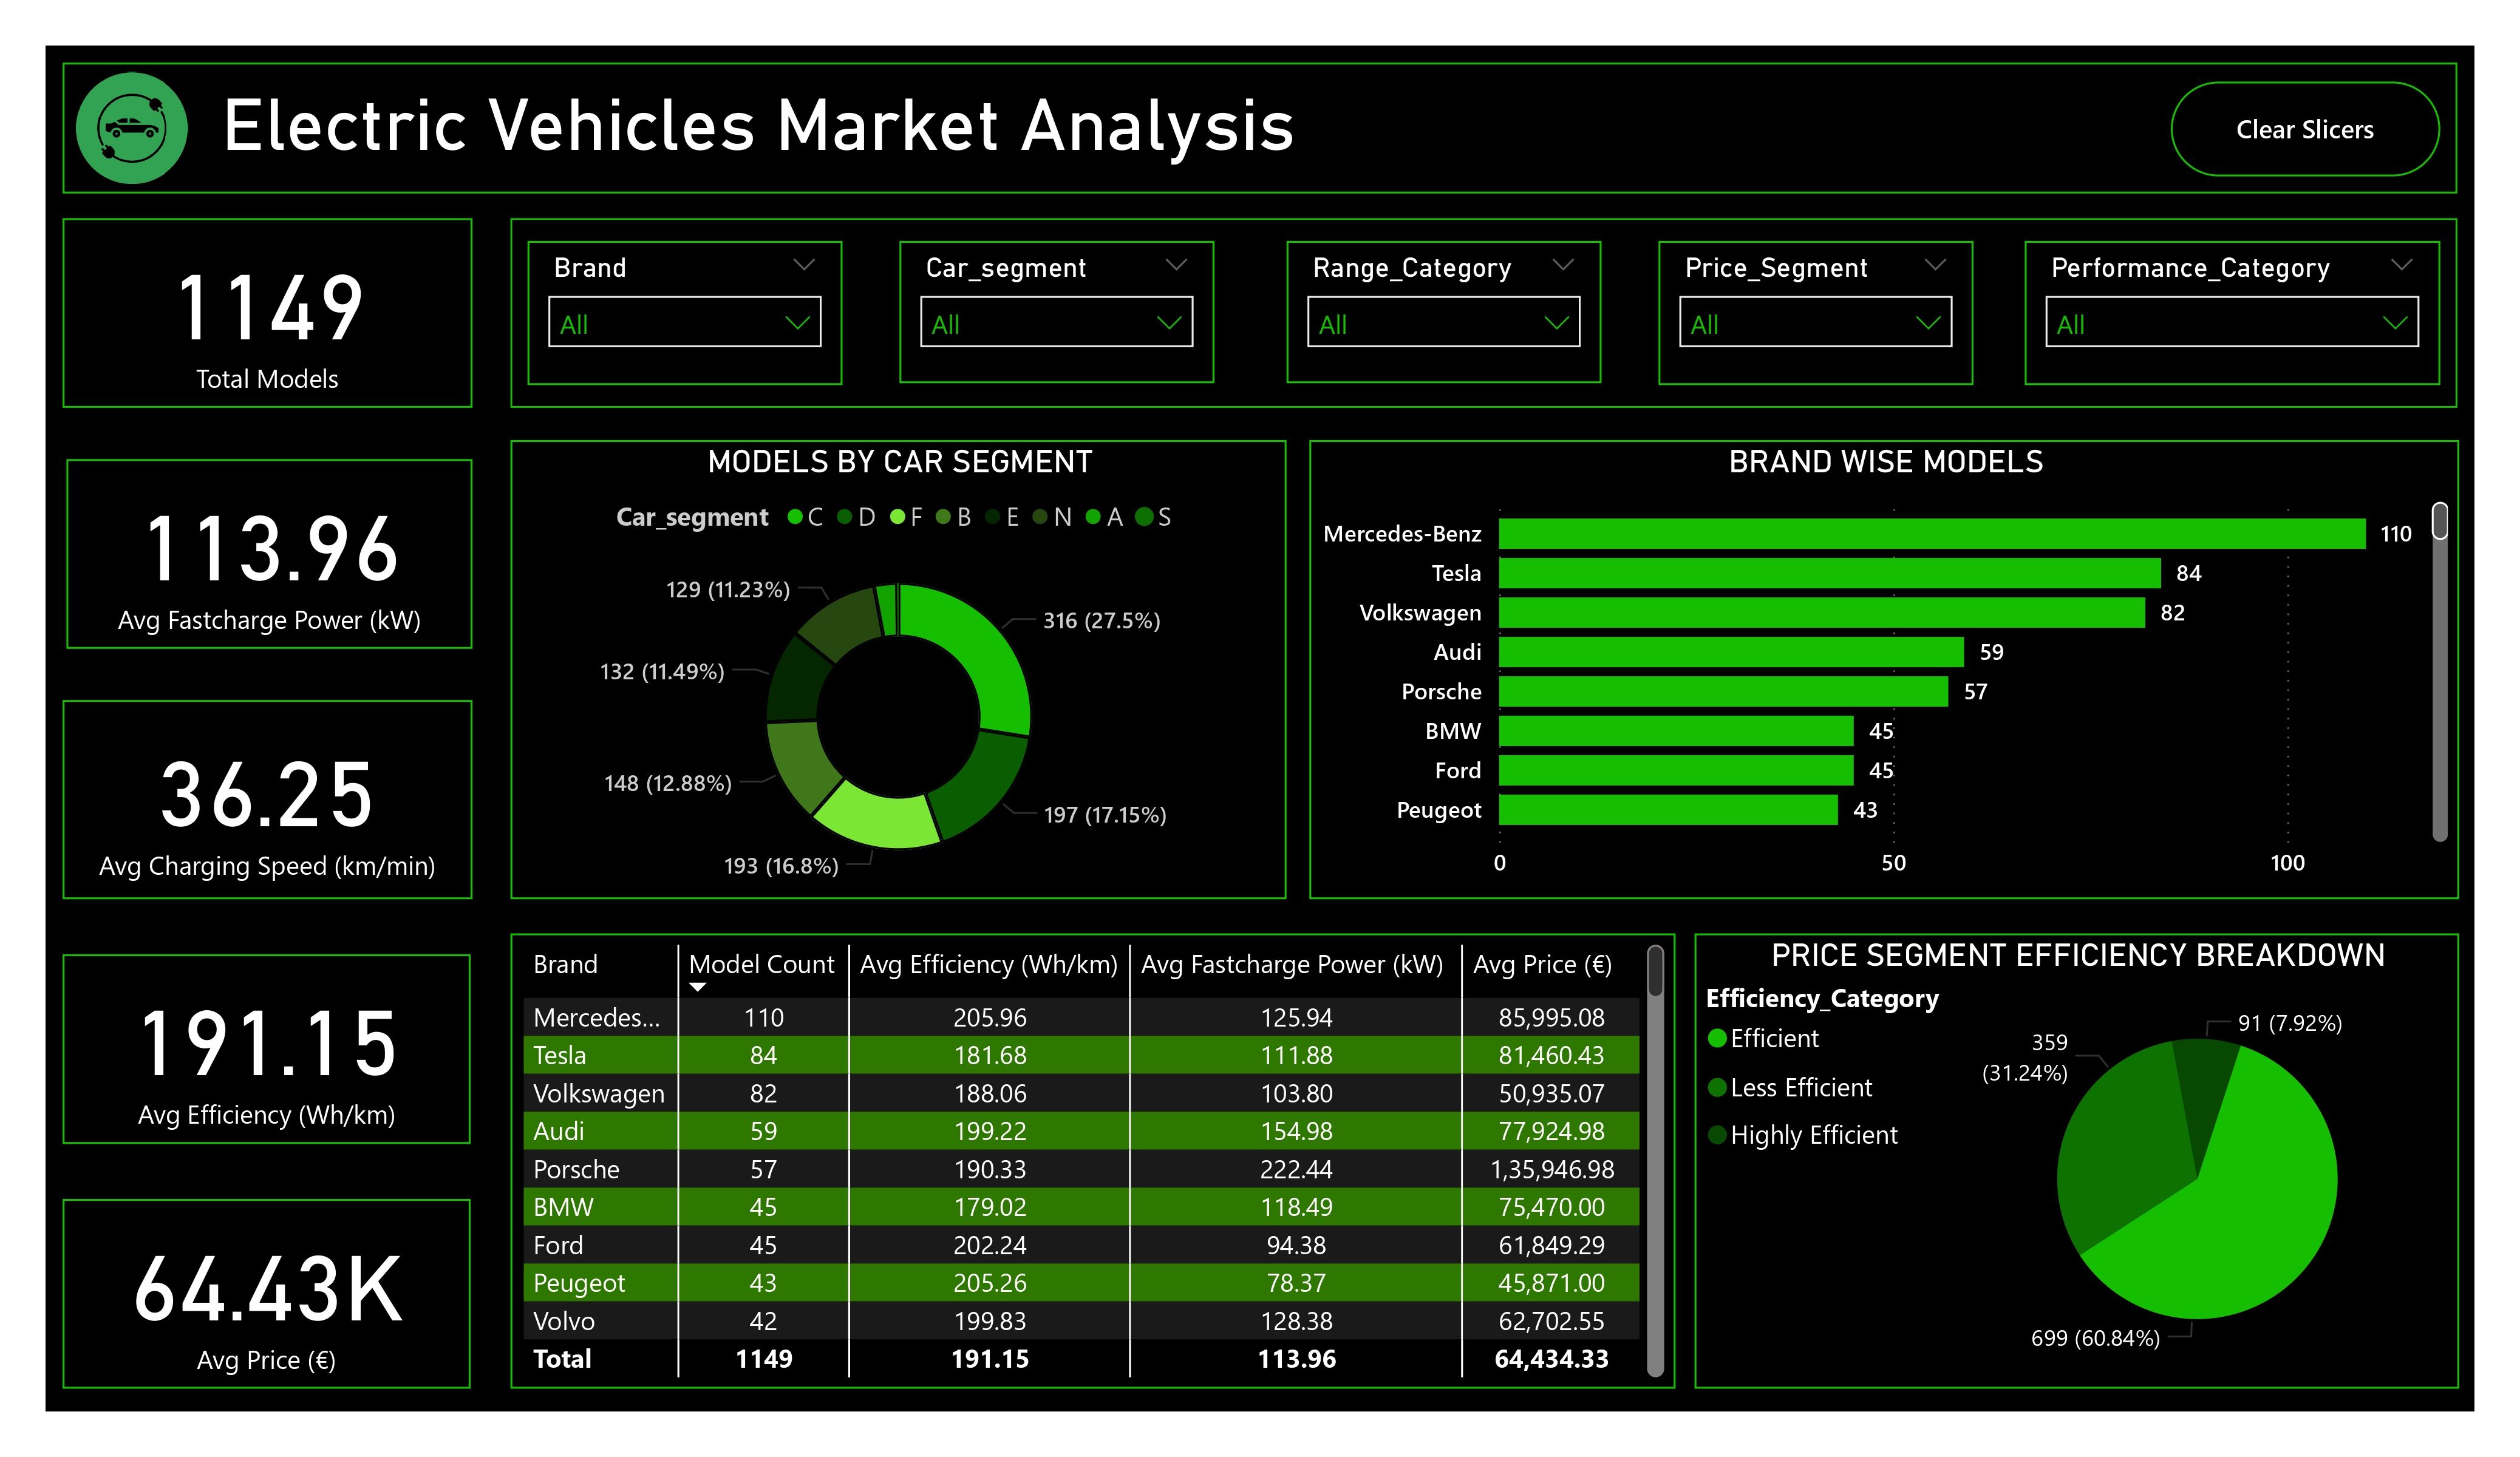

The dashboard page shown, as its layout file describes it:
{"tool":"powerbi","page":{"name":"Page 1","canvas":[1280,720],"ordinal":0},"visuals":[{"type":"textbox","box":[9.2,9.2,1261.8,68.4],"z":0},{"type":"card","fields":{"Values":["Electric_Vehicles.Total Models"]},"box":[9.2,90.8,215.8,100],"z":1000},{"type":"card","fields":{"Values":["Electric_Vehicles.Avg Fastcharge Power (kW)"]},"box":[10.5,218.4,214.5,100],"z":2000},{"type":"card","fields":{"Values":["Electric_Vehicles.Avg Charging Speed (km/min)"]},"box":[9.2,344.7,215.8,105.3],"z":3000},{"type":"card","fields":{"Values":["Electric_Vehicles.Avg Efficiency (Wh/km)"]},"box":[9.2,478.9,214.5,100],"z":4000},{"type":"card","fields":{"Values":["Electric_Vehicles.Avg Price (€)"]},"box":[9.2,607.9,214.5,100],"z":5000},{"type":"shape","box":[244.7,90.8,1026.3,100],"z":6000},{"type":"slicer","fields":{"Values":["Electric_Vehicles.Brand"]},"box":[253.9,102.6,165.8,76.3],"z":7000},{"type":"slicer","fields":{"Values":["Electric_Vehicles.Car_segment"]},"box":[450,102.7,166.2,75.7],"z":8000},{"type":"slicer","fields":{"Values":["Electric_Vehicles.Range_Category"]},"box":[654.1,102.7,166.2,75.7],"z":9000},{"type":"slicer","fields":{"Values":["Electric_Vehicles.Price_Segment"]},"box":[850,102.6,165.8,76.3],"z":10000},{"type":"slicer","fields":{"Values":["Electric_Vehicles.Performance_Category"]},"box":[1043.4,102.6,218.4,76.3],"z":11000},{"type":"donutChart","title":"MODELS BY CAR SEGMENT","fields":{"Y":["Electric_Vehicles.Total Models"],"Category":["Electric_Vehicles.Car_segment"]},"box":[244.7,207.9,409.2,242.1],"z":12000},{"type":"barChart","title":"BRAND WISE MODELS","fields":{"Category":["Electric_Vehicles.Brand"],"Y":["CountNonNull(Electric_Vehicles.Model)"]},"box":[666.2,208.1,605.4,241.9],"z":13000},{"type":"tableEx","fields":{"Values":["Electric_Vehicles.Brand","Electric_Vehicles.Model","Electric_Vehicles.Avg Efficiency (Wh/km)","Electric_Vehicles.Avg Fastcharge Power (kW)","Electric_Vehicles.Avg Price (€)"]},"box":[244.6,467.6,614.9,240.5],"z":14000},{"type":"pieChart","title":"PRICE SEGMENT EFFICIENCY BREAKDOWN","fields":{"Y":["CountNonNull(Electric_Vehicles.Price_Segment)"],"Category":["Electric_Vehicles.Efficiency_Category"]},"box":[868.9,467.6,402.7,240.5],"z":15000},{"type":"image","box":[10.8,9.5,68.9,68.9],"z":16000},{"type":"actionButton","box":[1120.3,18.9,141.9,50],"z":17000}]}

Visuals, with their boxes on the page's 1280x720 design canvas (x1, y1, x2, y2). These are canvas units, not pixel positions in the 2520x1457 screenshot, which may show the page scaled, cropped or inside an application window:
textbox: [9,9,1271,78]
card - Electric_Vehicles.Total Models: [9,91,225,191]
card - Electric_Vehicles.Avg Fastcharge Power (kW): [10,218,225,318]
card - Electric_Vehicles.Avg Charging Speed (km/min): [9,345,225,450]
card - Electric_Vehicles.Avg Efficiency (Wh/km): [9,479,224,579]
card - Electric_Vehicles.Avg Price (€): [9,608,224,708]
shape: [245,91,1271,191]
slicer - Electric_Vehicles.Brand: [254,103,420,179]
slicer - Electric_Vehicles.Car_segment: [450,103,616,178]
slicer - Electric_Vehicles.Range_Category: [654,103,820,178]
slicer - Electric_Vehicles.Price_Segment: [850,103,1016,179]
slicer - Electric_Vehicles.Performance_Category: [1043,103,1262,179]
"MODELS BY CAR SEGMENT" donutChart: [245,208,654,450]
"BRAND WISE MODELS" barChart: [666,208,1272,450]
tableEx - Electric_Vehicles.Brand x Electric_Vehicles.Model: [245,468,860,708]
"PRICE SEGMENT EFFICIENCY BREAKDOWN" pieChart: [869,468,1272,708]
image: [11,10,80,78]
actionButton: [1120,19,1262,69]
